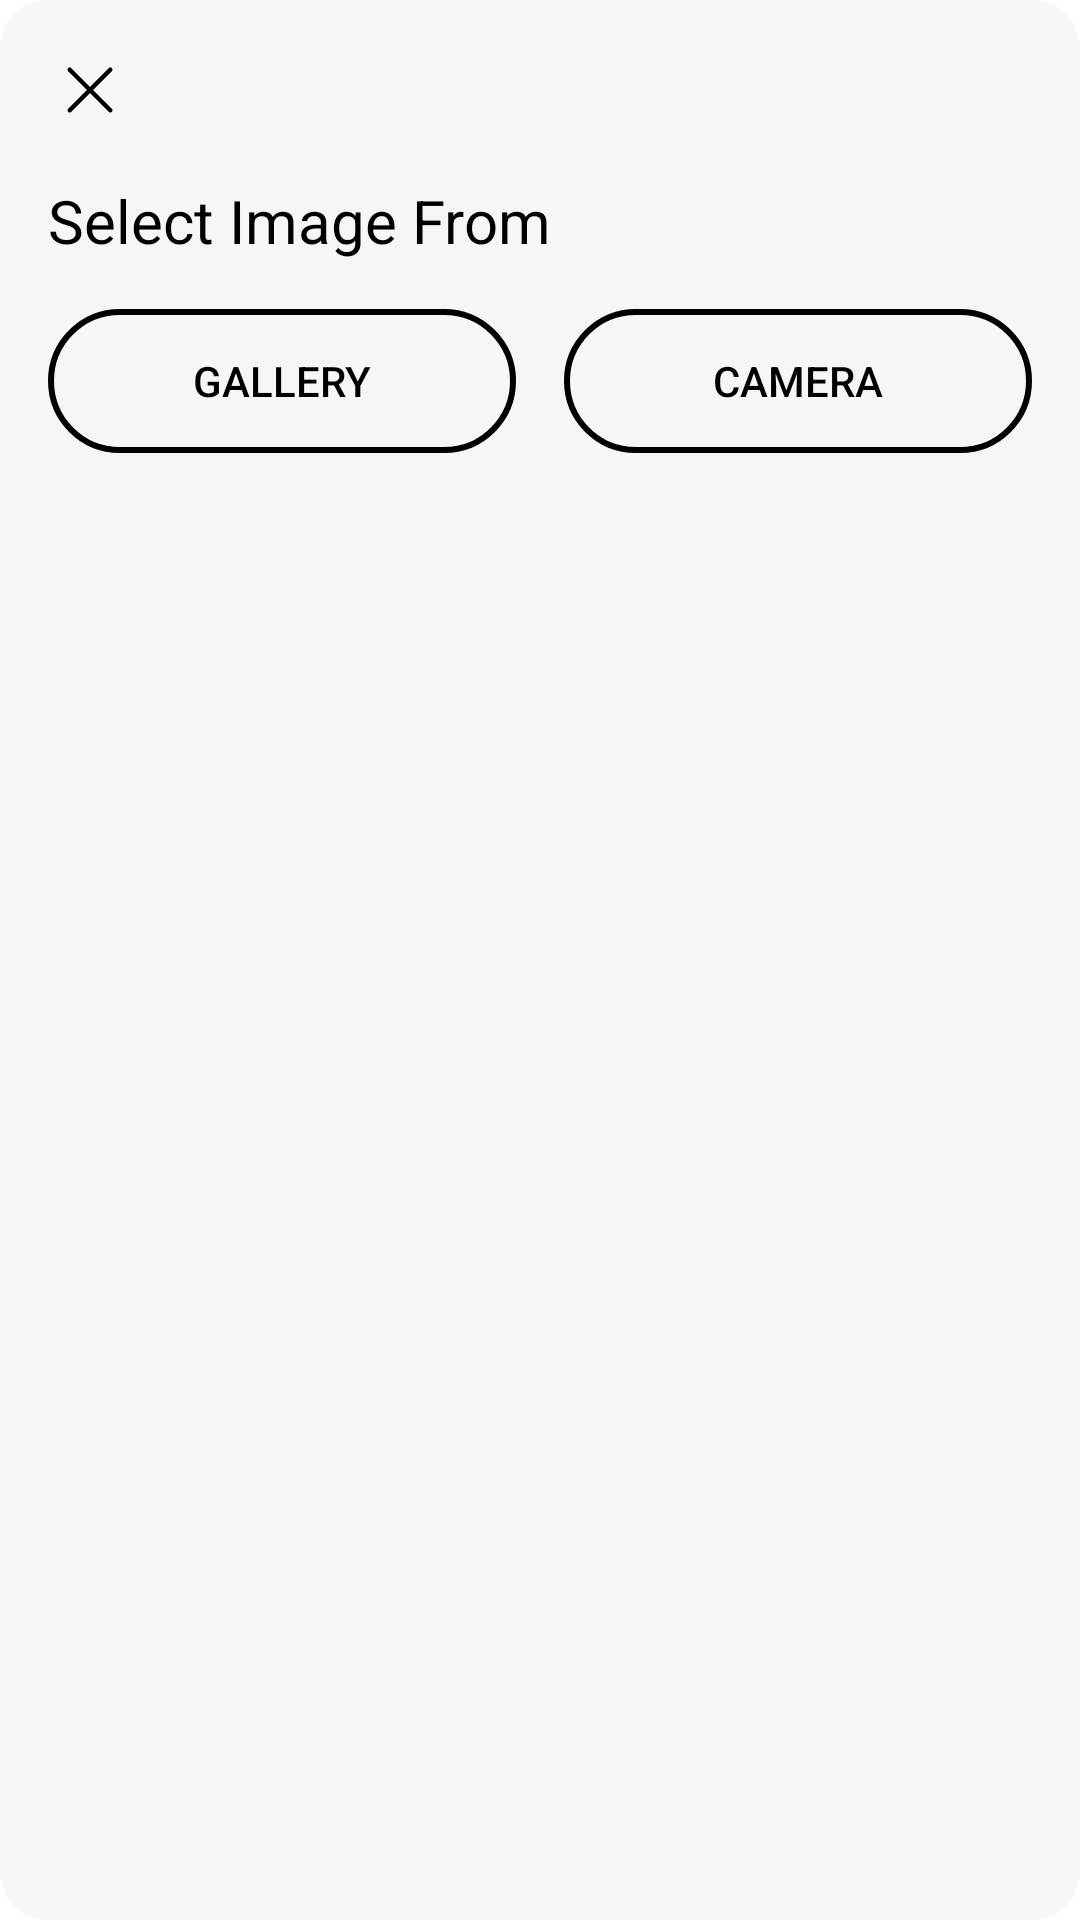

Screen size 1080x1920. Icon name, then its box in pixels as bbox=(x1, y1, x2, y2):
close withoutbg: bbox=(67, 67, 113, 113)
